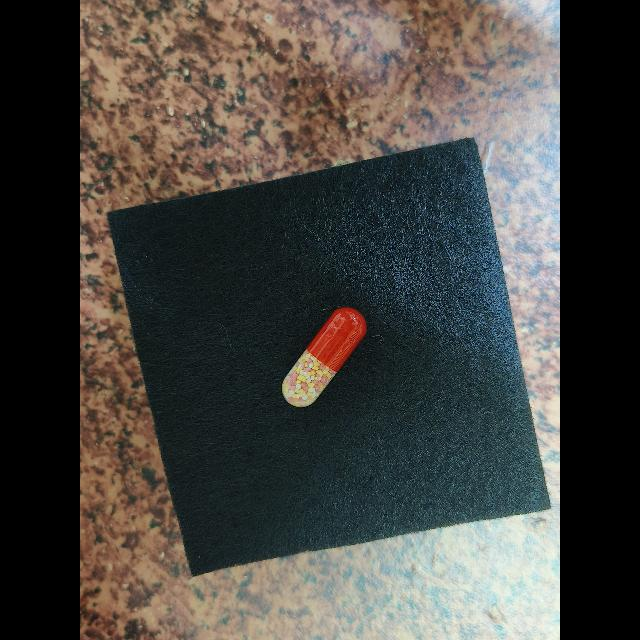Intact Capsule: (282, 307, 367, 407)
